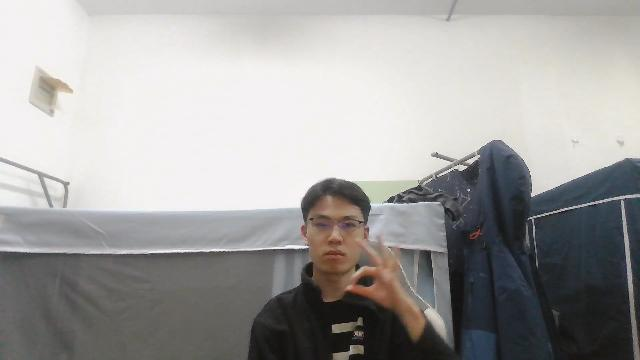ok: (338, 234, 414, 320)
